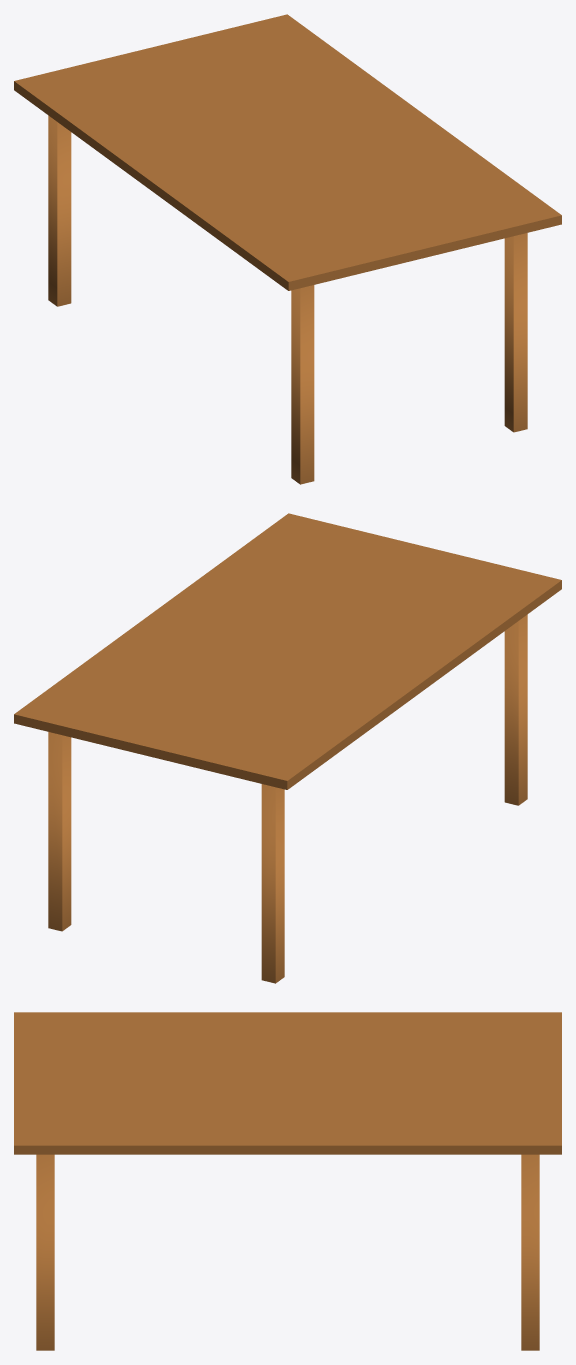
The model's file is SM_Table_001.fbx.
The picture shows the model from 3 angles, top to bottom: view 1: azimuth 30°, elevation 25°; view 2: azimuth 150°, elevation 25°; view 3: azimuth 270°, elevation 25°; orthographic projection.
Visible parts, largest first — view 1: Table; view 2: Table; view 3: Table.
Boxes of the visible parts, x1=… form: Table: x1=14, y1=14, x2=561, y2=484; Table: x1=14, y1=513, x2=561, y2=983; Table: x1=14, y1=1012, x2=561, y2=1350.
Bounding box in the file's own units: 115 × 87 × 200.
